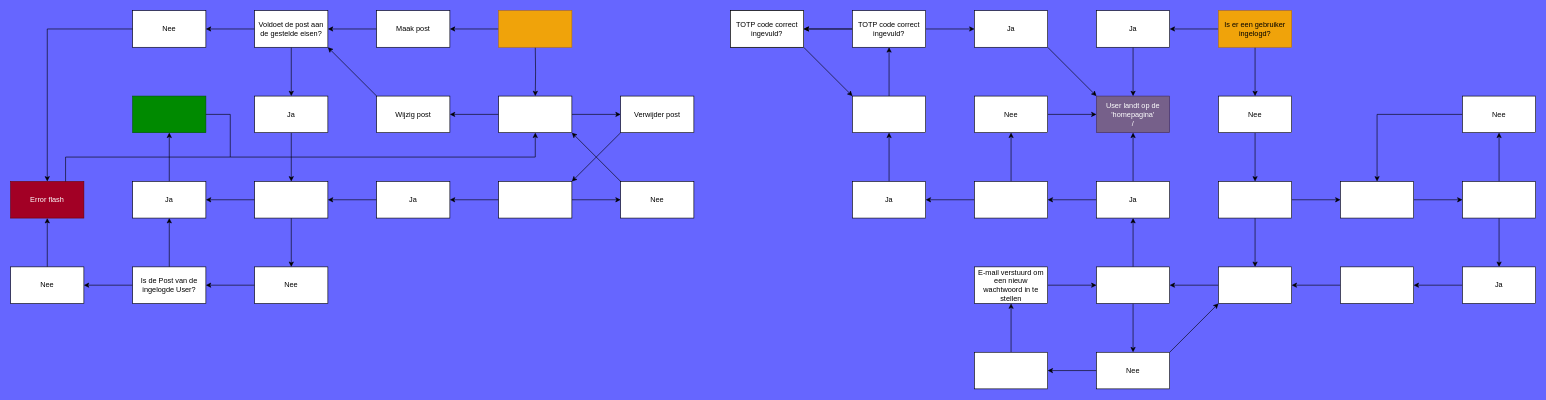
This 1546x400 diagram has some shape labels left out. Each missing label, with the centre of its shape:
"E-mail verificatie verstuurd" belongs at point (1377, 284).
"Formulier ingevuld & valid?" belongs at point (1499, 199).
"Gebruiker is ingelogd" belongs at point (535, 28).
"Heeft de gebruiker 2FA ingesteld?" belongs at point (1011, 199).
"heeft de User role 'ADMIN'?" belongs at point (291, 199).
"Inloggegevens correct ingevuld?" belongs at point (1133, 284).
"Login" belongs at point (1255, 284).
"Overzicht van alle posts" belongs at point (535, 114).
"Registreer" belongs at point (1377, 199).
"Registreer of Login optie" belongs at point (1255, 199).
"TOTP invullen" belongs at point (889, 114).
"Voer actie uit" belongs at point (169, 114).
"Wachtwoord vergeten?" belongs at point (1011, 370).
"Weet je het zeker?" belongs at point (535, 199).
